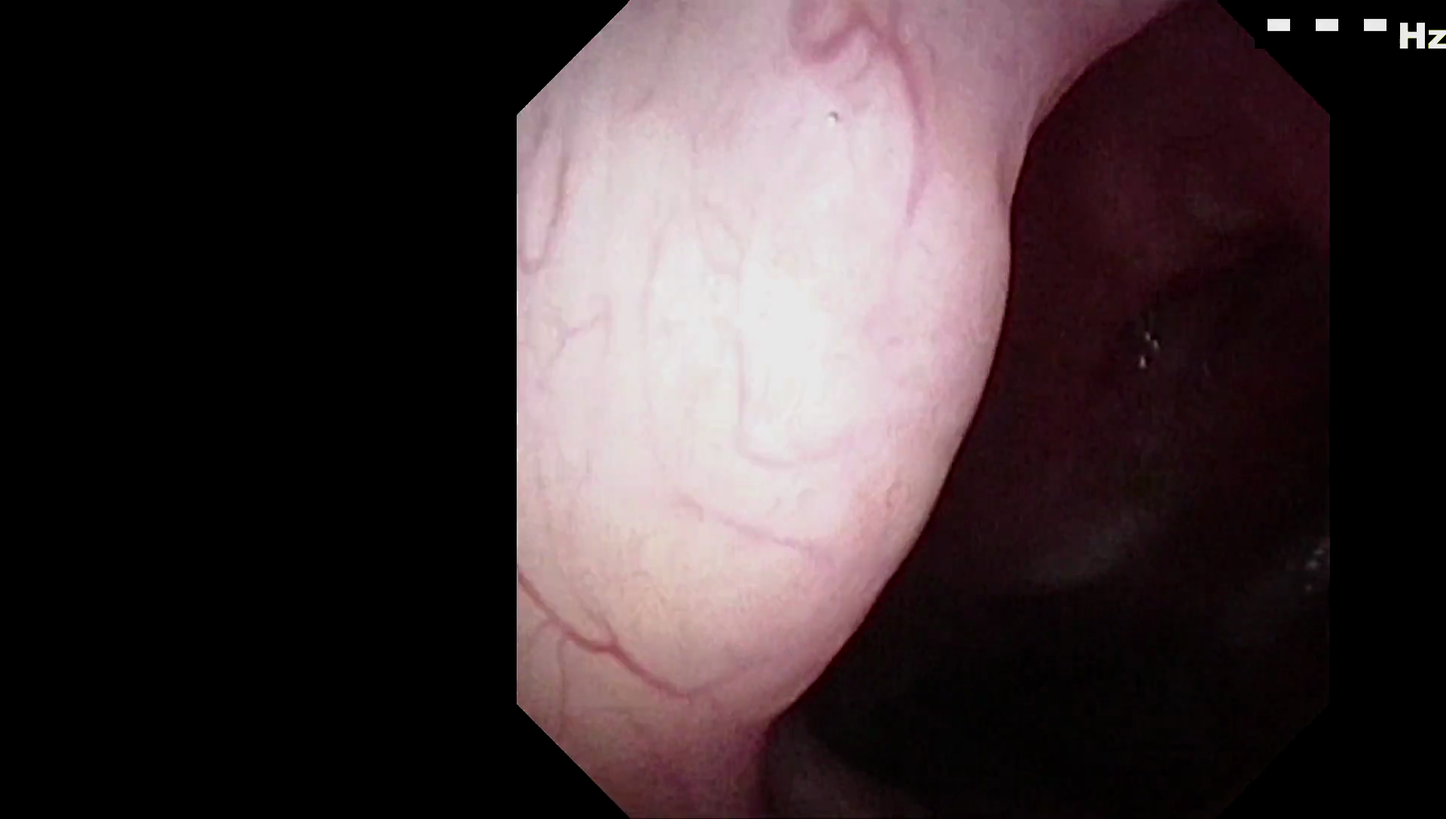close_wall: (535, 102, 1008, 709)
next: (800, 550, 1302, 811)
